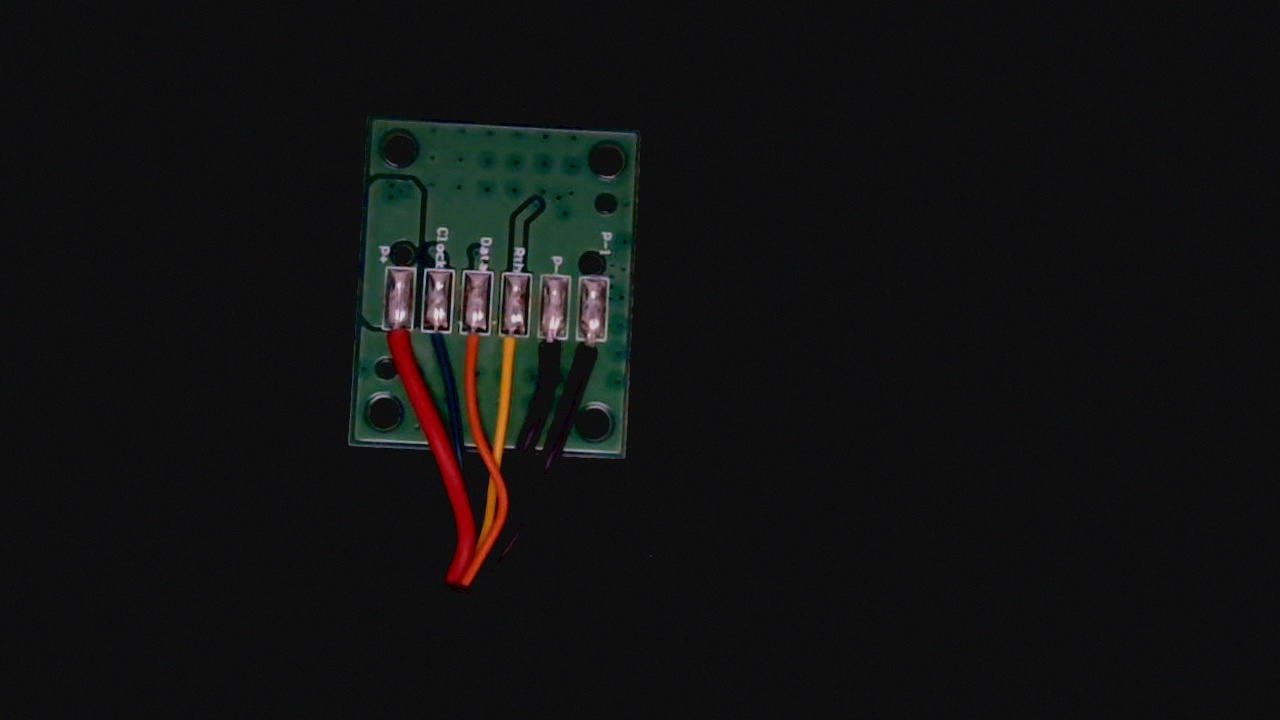Black: (533, 319, 567, 386)
Black1: (573, 321, 608, 384)
Green: (416, 310, 450, 378)
Orange: (455, 313, 487, 379)
Red: (377, 309, 417, 382)
Yellow: (494, 316, 530, 382)
